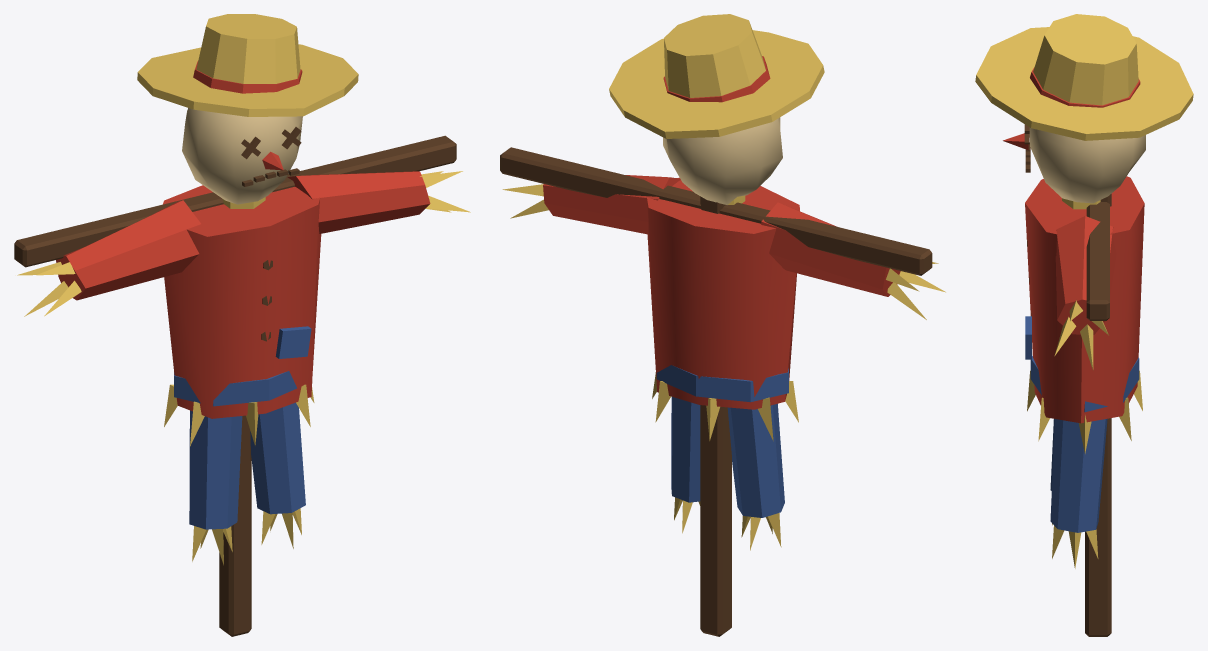
The model's file is scarecrow.glb.
The picture shows the model from 3 angles, left to right: view 1: azimuth 30°, elevation 25°; view 2: azimuth 150°, elevation 25°; view 3: azimuth 270°, elevation 25°; orthographic projection. The views are drawn at different scales.
Parts seen in each view (by area): view 1: scarecrow; view 2: scarecrow; view 3: scarecrow.
Part boxes in pixels (x1,y1,x2,y2): scarecrow: [14, 14, 470, 636]; scarecrow: [500, 14, 945, 636]; scarecrow: [975, 14, 1193, 636].
Bounding box in the file's own units: 1.5 × 2.02 × 0.659.
